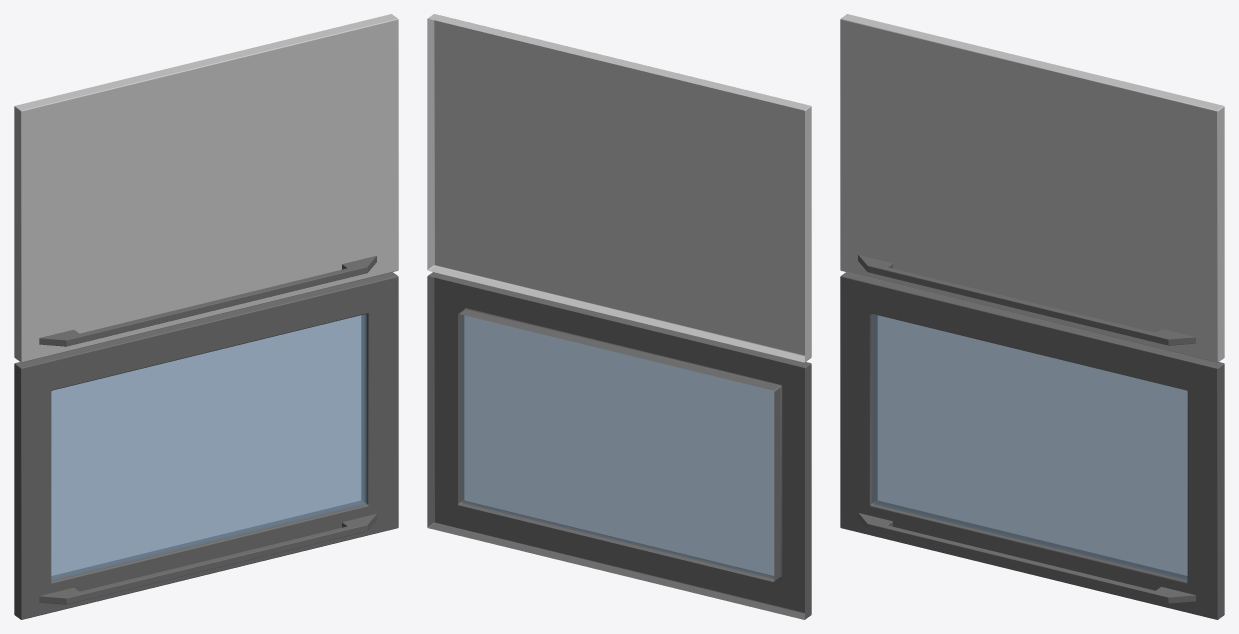
The model's file is 287Door.obj.
The picture shows the model from 3 angles, left to right: view 1: azimuth 30°, elevation 25°; view 2: azimuth 150°, elevation 25°; view 3: azimuth 330°, elevation 25°; orthographic projection.
Parts seen in each view (by area): view 1: 287; view 2: 287; view 3: 287.
Boxes of the visible parts, x1,y1,x2,y2 form: 287: (14, 14, 398, 619); 287: (427, 14, 811, 619); 287: (840, 14, 1224, 619).
Size of the model in its own units: 0.58 by 0.7477 by 0.0422.
